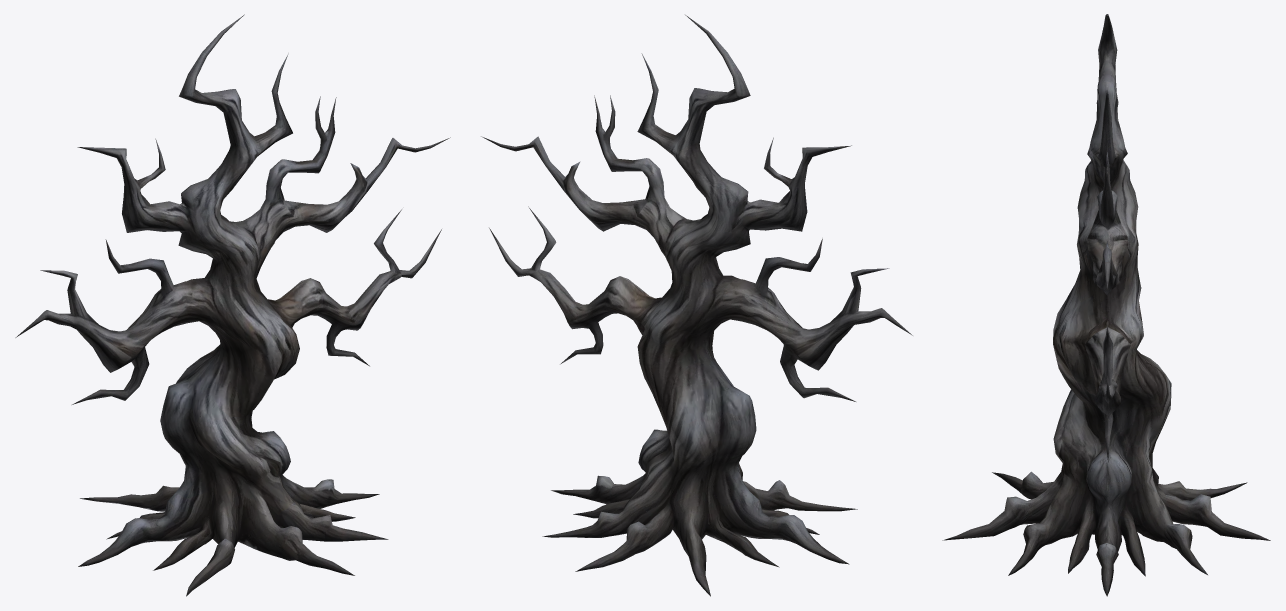
The model's file is decor_tree_dead.glb.
3 views of the same model, side by side, from view 1: azimuth 30°, elevation 25°; view 2: azimuth 150°, elevation 25°; view 3: azimuth 270°, elevation 25° (orthographic).
Visible parts, largest first — view 1: decor_tree_dead; view 2: decor_tree_dead; view 3: decor_tree_dead.
Boxes of the visible parts, x1=… form: decor_tree_dead: x1=15, y1=14, x2=450, y2=596; decor_tree_dead: x1=481, y1=15, x2=912, y2=596; decor_tree_dead: x1=942, y1=14, x2=1270, y2=596.
Bounding box in the file's own units: 4.9 × 5.5 × 3.18.
1 material, 1 textured.
